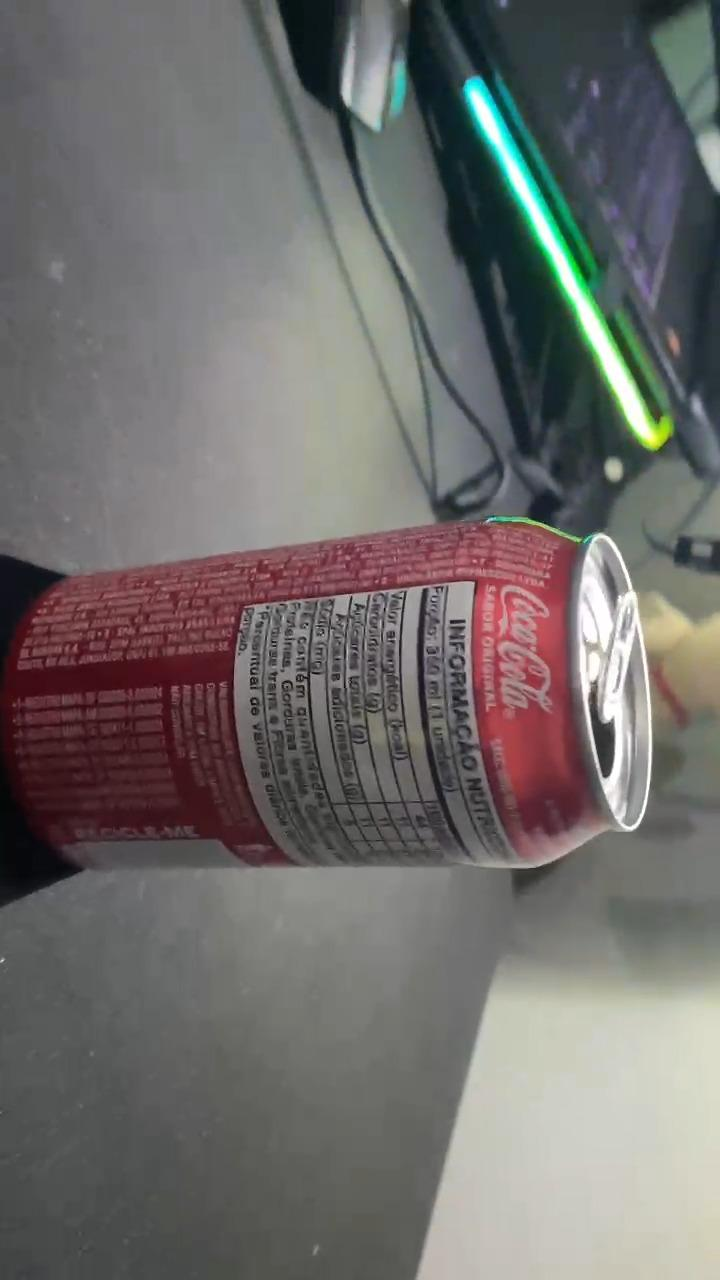coke: (2, 511, 655, 871)
